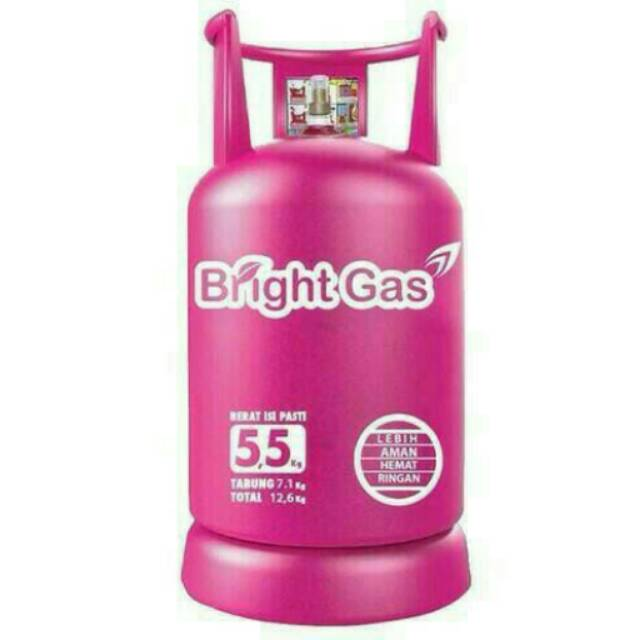bright_gas: (182, 8, 474, 627)
